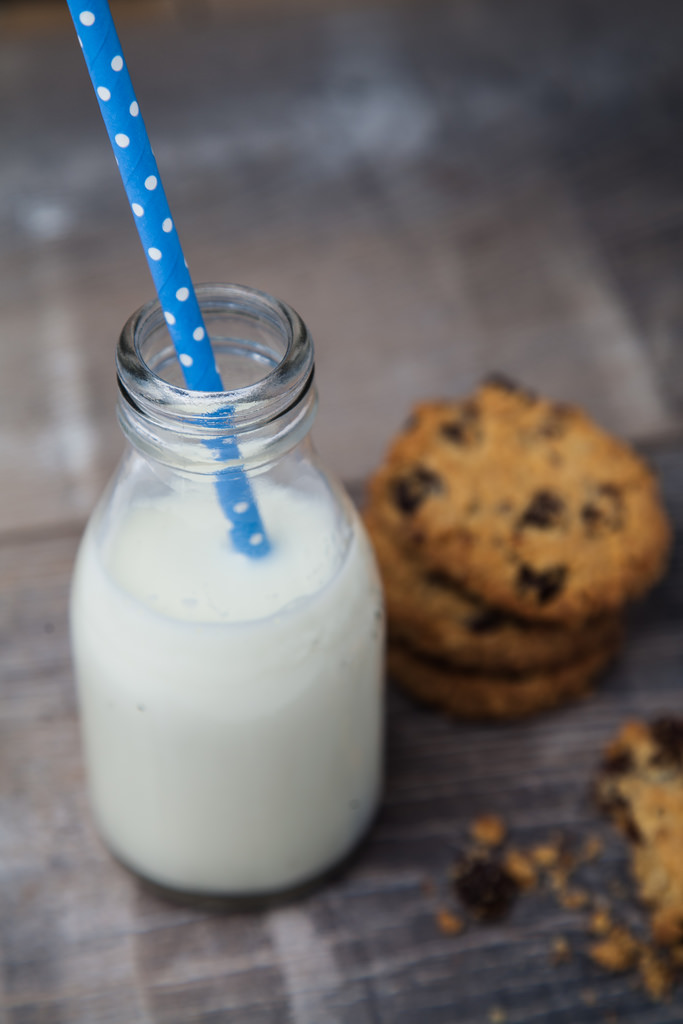glass of milk: (116, 363, 385, 889)
